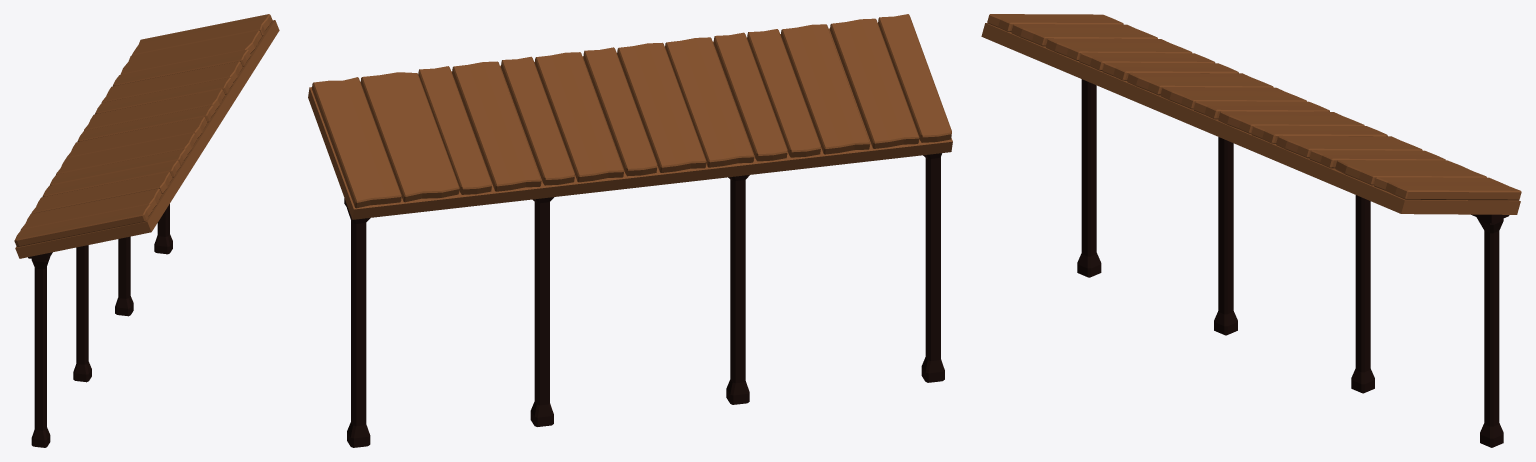
The model's file is ww_balcony_e.glb.
The picture shows the model from 3 angles, left to right: view 1: azimuth 30°, elevation 25°; view 2: azimuth 150°, elevation 25°; view 3: azimuth 270°, elevation 25°; orthographic projection. The views are drawn at different scales.
Parts seen in each view (by area): view 1: Balcony_E; view 2: Balcony_E; view 3: Balcony_E.
Part boxes in pixels (left/top/right/bottom): Balcony_E: left=14, top=14, right=279, bottom=447; Balcony_E: left=308, top=14, right=952, bottom=447; Balcony_E: left=981, top=14, right=1521, bottom=447.
Size of the model in its own units: 6.69 by 4.04 by 6.7.
